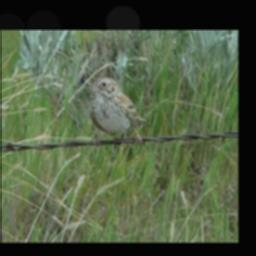Sparrow: (87, 74, 150, 146)
